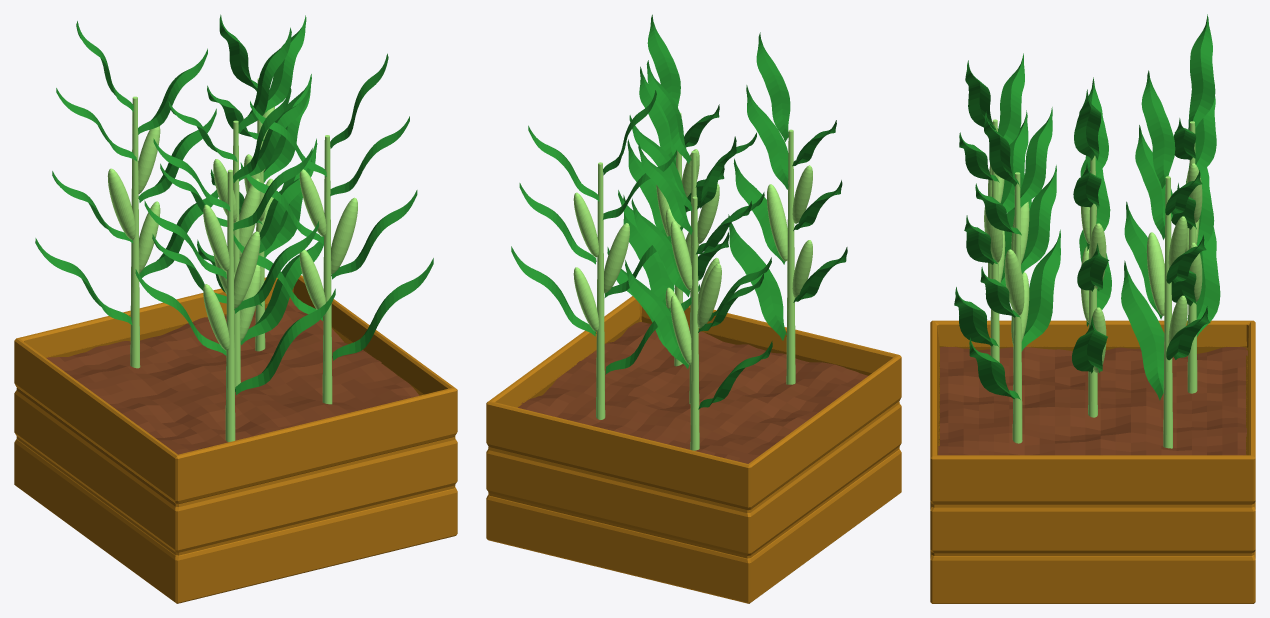
The model's file is CornPlanter1x1.glb.
The picture shows the model from 3 angles, left to right: view 1: azimuth 30°, elevation 25°; view 2: azimuth 150°, elevation 25°; view 3: azimuth 270°, elevation 25°; orthographic projection. The views are drawn at different scales.
Visible parts, largest first — view 1: 1x1, 1x1 Soil, CornStalf.003, CornStalf.004, CornStalf.001, Cornleaf, Cornleaf.021, Cornleaf.028, Cornleaf.019, CornStalf, Cornleaf.017, Cornleaf.006 (+36 smaller); view 2: 1x1, 1x1 Soil, Cornleaf.021, CornStalf.001, CornStalf.002, CornStalf.003, Cornleaf.027, Cornleaf.025, Cornleaf.008, Cornleaf.028, Cornleaf.034, Cornleaf.010 (+26 smaller); view 3: 1x1, 1x1 Soil, Cornleaf.014, Cornleaf.029, Cornleaf.013, Cornleaf.020, CornStalf.002, Cornleaf.031, CornStalf.004, Cornleaf.033, Cornleaf.007, Cornleaf.018 (+37 smaller).
Part boxes in pixels (x1=…): 1x1: x1=14, y1=275, x2=457, y2=603; 1x1 Soil: x1=46, y1=299, x2=419, y2=454; CornStalf.003: x1=225, y1=169, x2=235, y2=441; CornStalf.004: x1=322, y1=135, x2=332, y2=404; CornStalf.001: x1=130, y1=96, x2=140, y2=368; Cornleaf: x1=240, y1=236, x2=323, y2=345; Cornleaf.021: x1=235, y1=288, x2=335, y2=395; Cornleaf.028: x1=332, y1=258, x2=433, y2=360; Cornleaf.019: x1=264, y1=15, x2=306, y2=113; CornStalf: x1=233, y1=120, x2=240, y2=388; Cornleaf.017: x1=263, y1=74, x2=311, y2=182; Cornleaf.006: x1=238, y1=27, x2=291, y2=133; 1x1: x1=486, y1=296, x2=901, y2=603; 1x1 Soil: x1=518, y1=322, x2=867, y2=463; Cornleaf.021: x1=728, y1=214, x2=786, y2=340; CornStalf.001: x1=690, y1=196, x2=699, y2=450; CornStalf.002: x1=596, y1=162, x2=605, y2=419; CornStalf.003: x1=786, y1=129, x2=795, y2=384; Cornleaf.027: x1=756, y1=32, x2=790, y2=141; Cornleaf.025: x1=746, y1=85, x2=788, y2=189; Cornleaf.008: x1=625, y1=260, x2=688, y2=368; Cornleaf.028: x1=623, y1=195, x2=674, y2=305; Cornleaf.034: x1=647, y1=14, x2=680, y2=107; Cornleaf.010: x1=631, y1=198, x2=691, y2=296; 1x1: x1=930, y1=320, x2=1255, y2=603; 1x1 Soil: x1=938, y1=346, x2=1247, y2=455; Cornleaf.014: x1=1121, y1=260, x2=1164, y2=400; Cornleaf.029: x1=1021, y1=229, x2=1060, y2=351; Cornleaf.013: x1=1188, y1=14, x2=1215, y2=130; Cornleaf.020: x1=1141, y1=70, x2=1175, y2=188; CornStalf.002: x1=1163, y1=176, x2=1172, y2=448; Cornleaf.031: x1=1021, y1=165, x2=1056, y2=273; CornStalf.004: x1=1012, y1=172, x2=1022, y2=443; Cornleaf.033: x1=1014, y1=107, x2=1052, y2=209; Cornleaf.007: x1=1187, y1=227, x2=1220, y2=336; Cornleaf.018: x1=1135, y1=125, x2=1172, y2=239.
Bounding box in the file's own units: 1 × 1.6 × 1.
